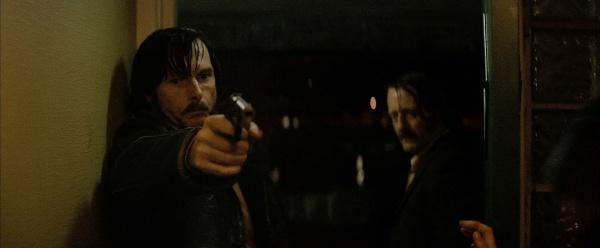Gun: (226, 92, 253, 142)
